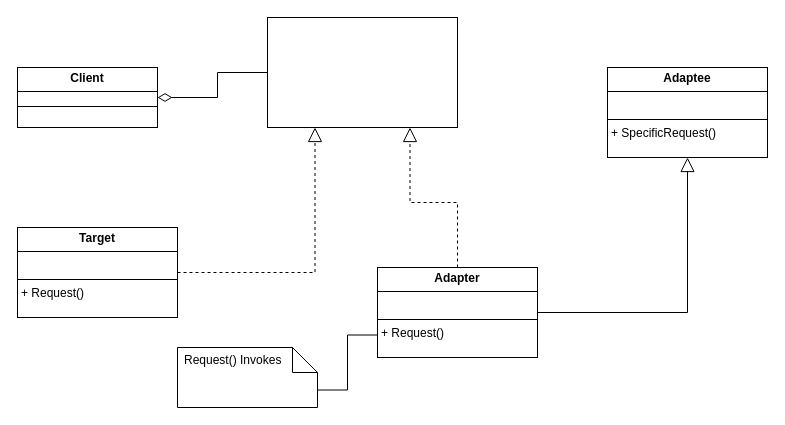
The diagram is 785 pixels wide and 425 high, and some of its shapes have lost their labels. Here are the shapes that lost their labels. From the top down, the centre of each, then its label:
At pixel 362 72: "<<Interface>> ITarget + Request()".
At pixel 247 377: "SpecificRequest()".
